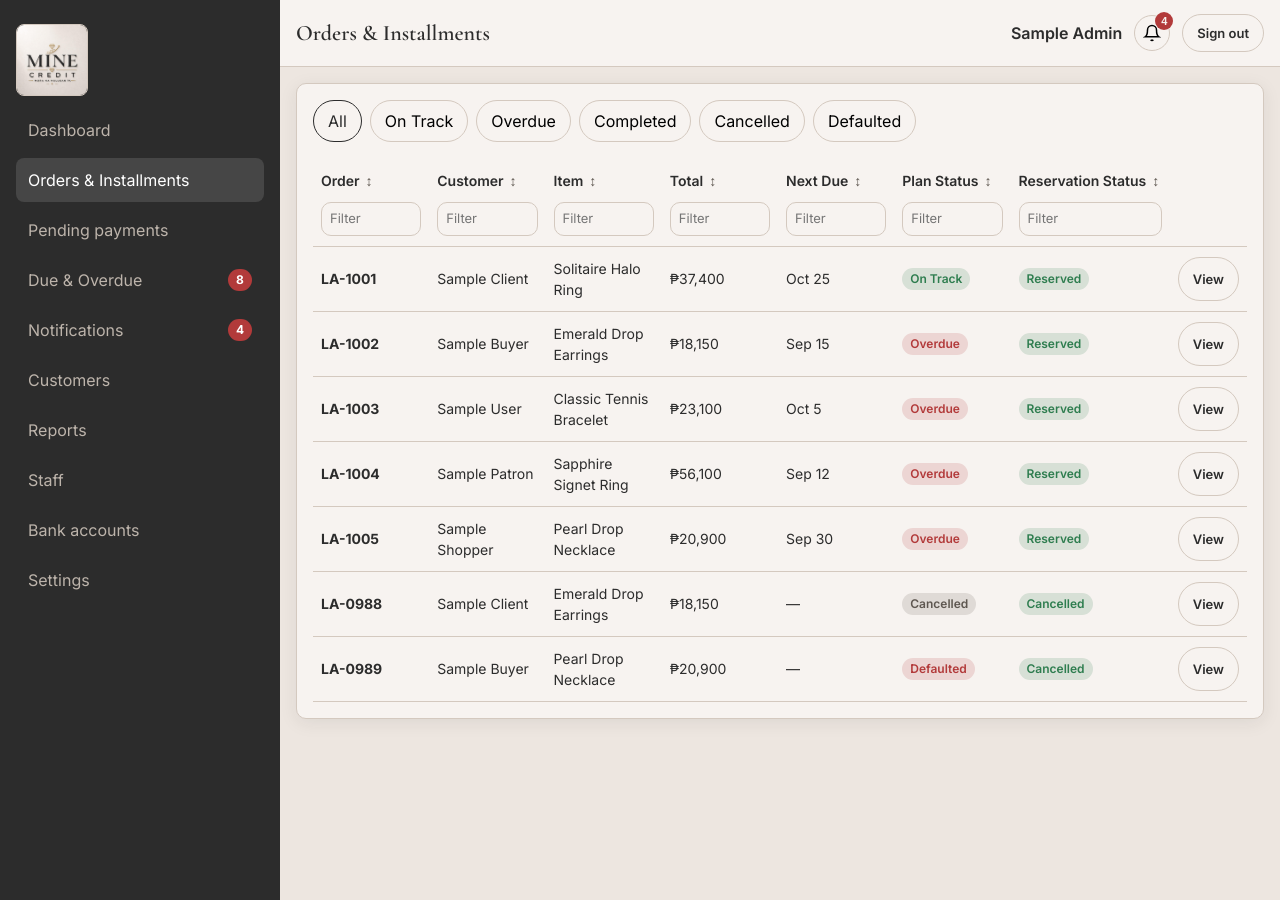
Scenario: admin orders › filters overdue plans and opens detail with reservation status
Expected: the text "LA-1001" is shown, [321,270,376,287]
Click the button with aria-label "Show Overdue orders": (524, 121) [476,100,571,142]
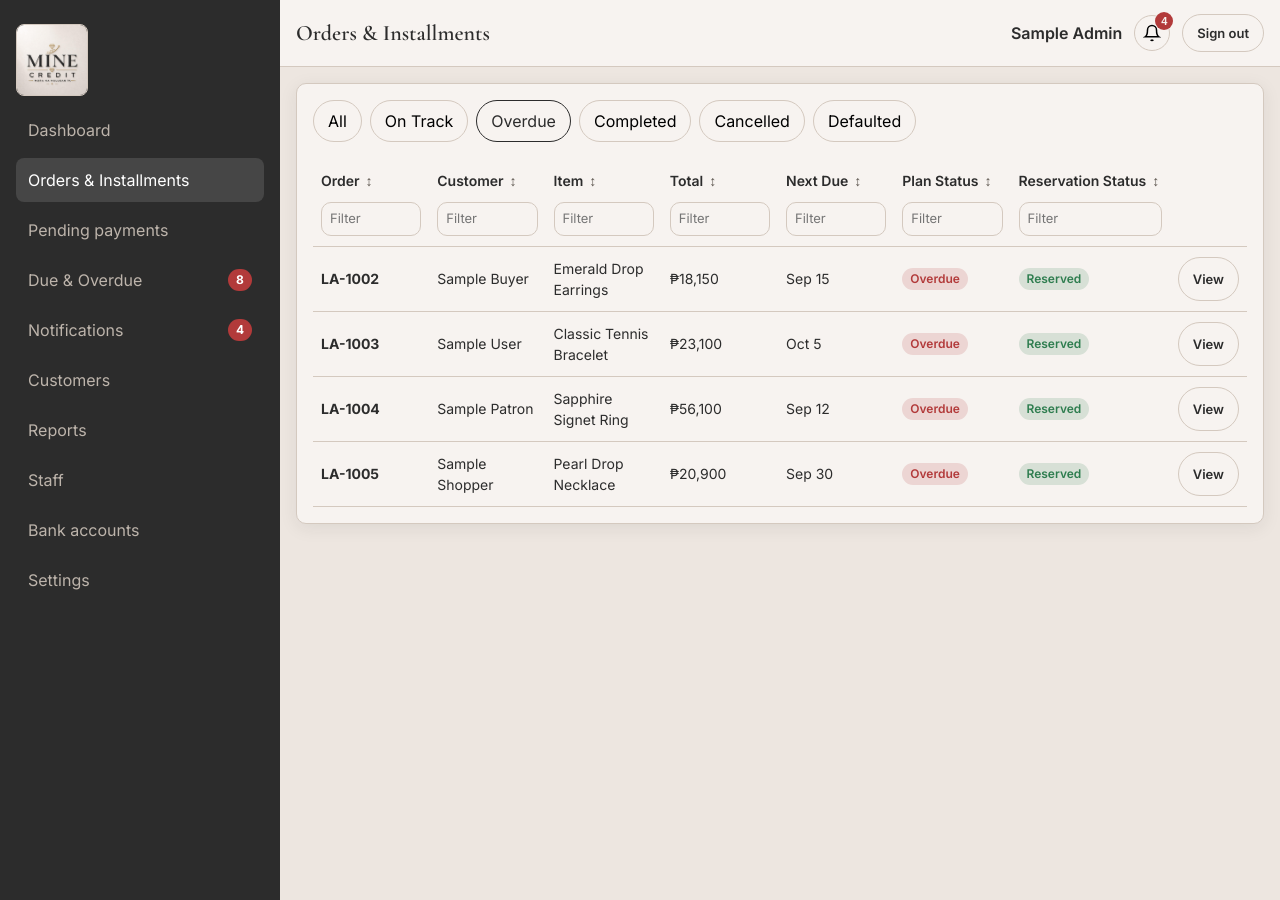
Expected: the text "LA-1002" is shown, [321,270,379,287]
Result: the text "LA-1001" is gone
Click the button "View" in the row of "LA-1002": (1208, 278) [1178,256,1239,300]
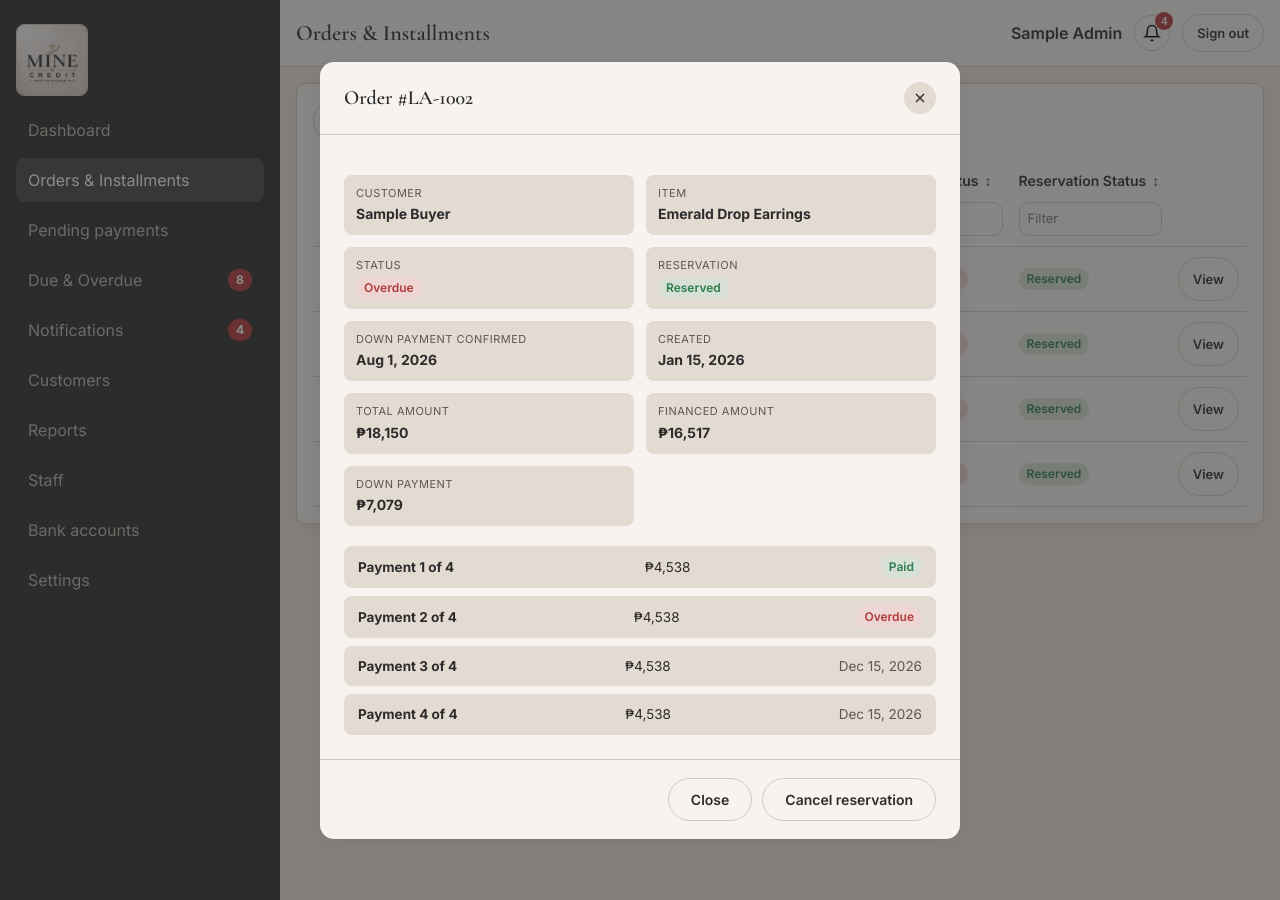
Result: the 1st text "Overdue" is shown at [356,276,422,298]
Result: the text "Reserved" is shown at [658,276,729,298]
Result: the button "Cancel reservation" is shown at [762,778,936,820]
